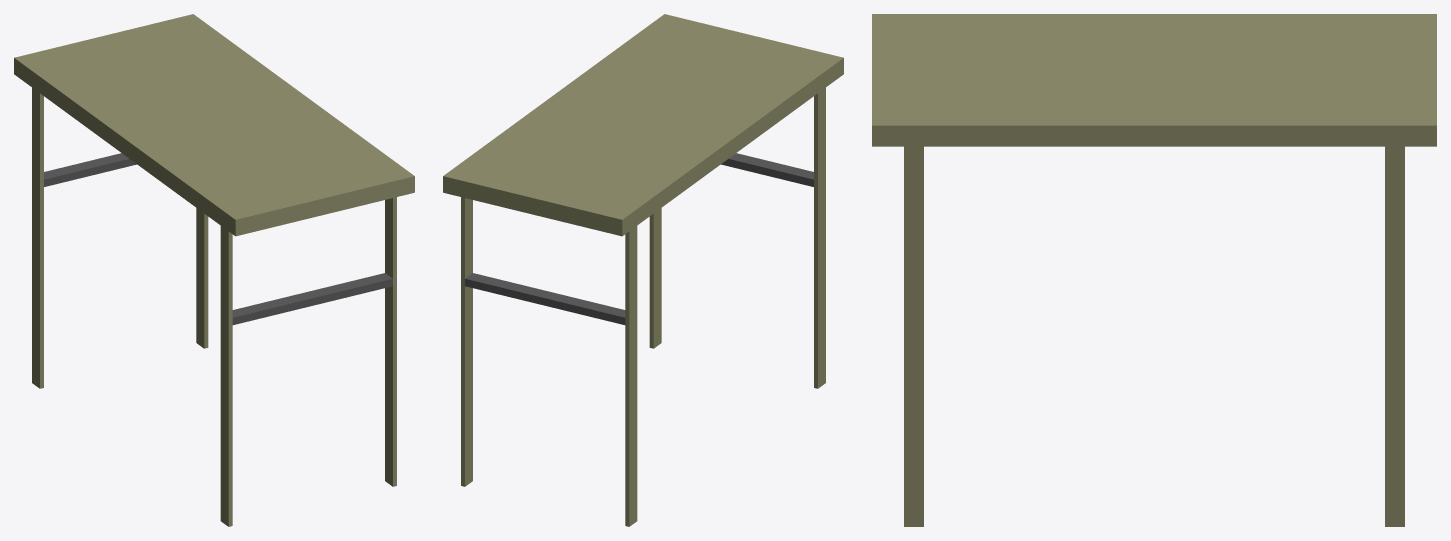
File: tafel_4.fbx
The picture shows the model from 3 angles, left to right: view 1: azimuth 30°, elevation 25°; view 2: azimuth 150°, elevation 25°; view 3: azimuth 270°, elevation 25°; orthographic projection. The views are drawn at different scales.
Visible parts, largest first — view 1: Cube.025; view 2: Cube.025; view 3: Cube.025.
Boxes of the visible parts, box(x1,y1,x2,y2) form: Cube.025: box(14, 14, 414, 526); Cube.025: box(443, 14, 843, 526); Cube.025: box(872, 14, 1436, 526).
Size of the model in its own units: 93.47 by 158 by 200.
